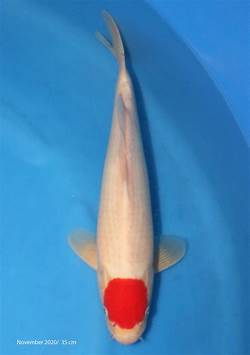sun: (69, 9, 188, 345)
